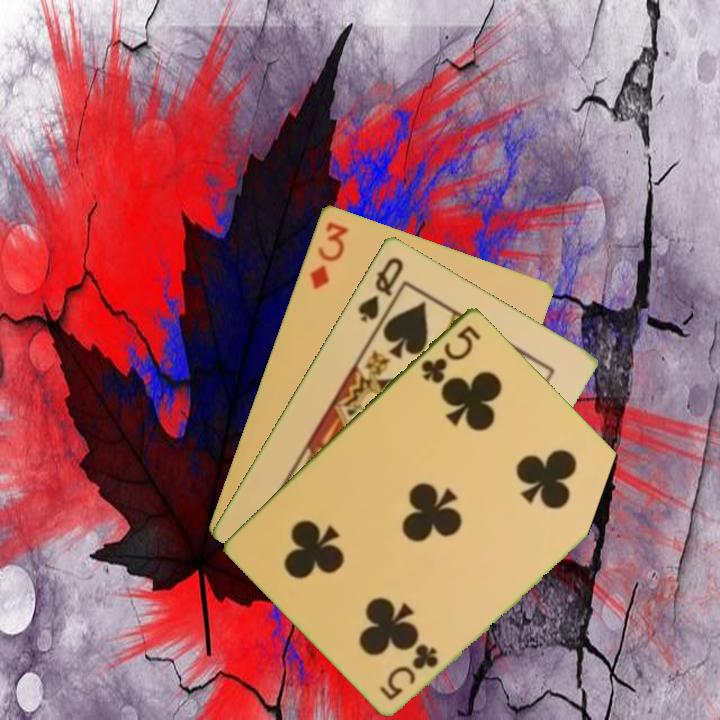3d: (305, 217, 351, 292)
5c: (417, 321, 484, 386), (376, 640, 442, 703)
Qs: (354, 253, 406, 326)
